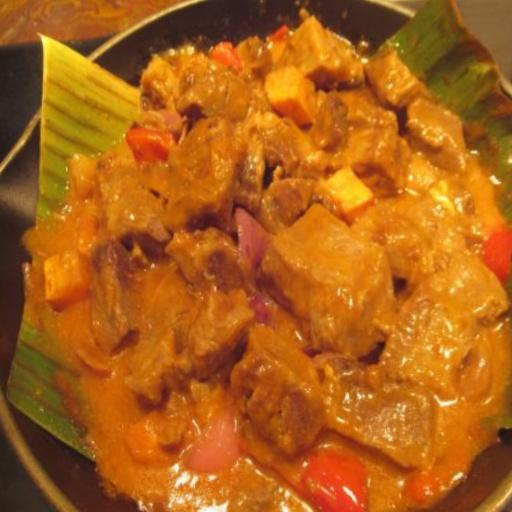pork caldereta: (35, 23, 511, 511)
